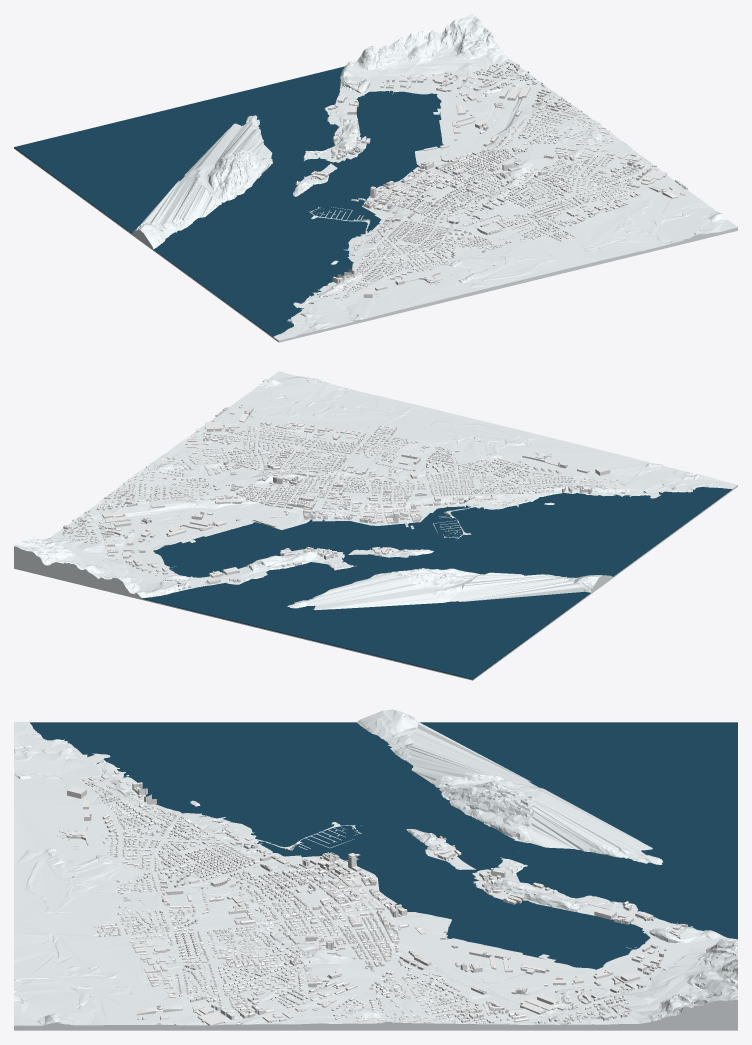
Rendered from kartstort3compressed.glb.
3 renders of one model, top to bottom at view 1: azimuth 30°, elevation 25°; view 2: azimuth 150°, elevation 25°; view 3: azimuth 270°, elevation 25°, orthographic. The views are drawn at different scales.
Parts seen in each view (by area): view 1: land, sea, Exist_Buildings_alt_01, Object007, Object005, Object006, Object003; view 2: land, sea, Exist_Buildings_alt_01, Object007, Object005, Object003, Object006; view 3: land, sea, Exist_Buildings_alt_01, Object007, Object005, Object003, Object006.
Boxes of the visible parts, x1,y1,x2,y2 form: land: (14,14,737,342); sea: (14,66,493,336); Exist_Buildings_alt_01: (328,63,605,181); Object007: (473,130,687,225); Object005: (347,220,502,281); Object006: (406,177,575,243); Object003: (295,131,447,300); land: (14,371,737,680); sea: (142,441,732,679); Exist_Buildings_alt_01: (64,465,323,590); Object007: (150,405,360,488); Object005: (424,446,576,495); Object003: (280,477,626,566); Object006: (319,425,429,501); land: (14,709,737,1030); sea: (30,722,737,969); Exist_Buildings_alt_01: (319,901,692,1023); Object007: (130,919,369,1025); Object005: (102,794,257,894); Object003: (82,770,556,916); Object006: (94,863,342,939).
Bounding box in the file's own units: 50.14 × 2.35 × 50.
